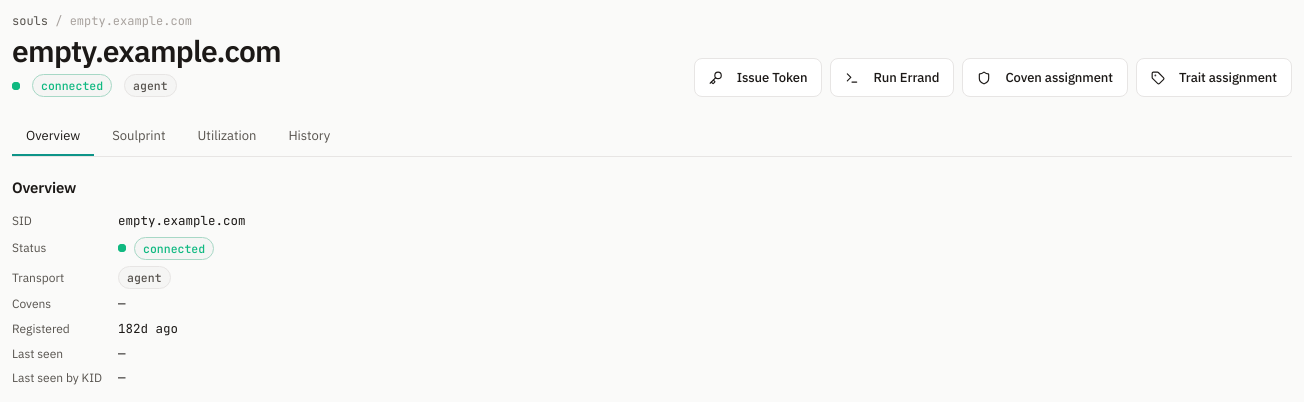
it: SoulDetail › History tab: empty-state "No operations with this host"
expect the heading "empty.example.com" is shown: met, box left=12, top=36, right=281, bottom=66
Click the tab "History": coordinates (309, 137) left=274, top=117, right=344, bottom=156
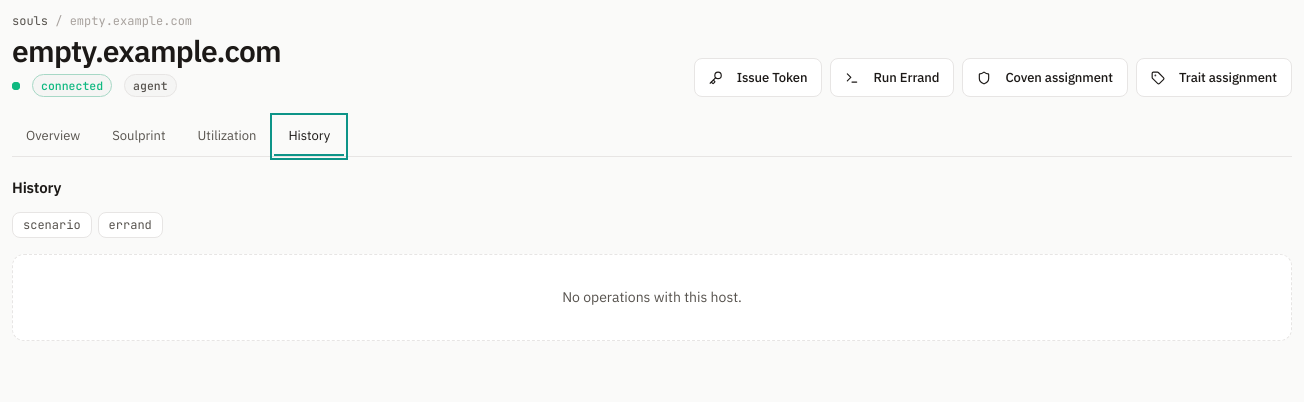
expect the text "No operations with this host." is shown: met, box left=12, top=254, right=1292, bottom=341
